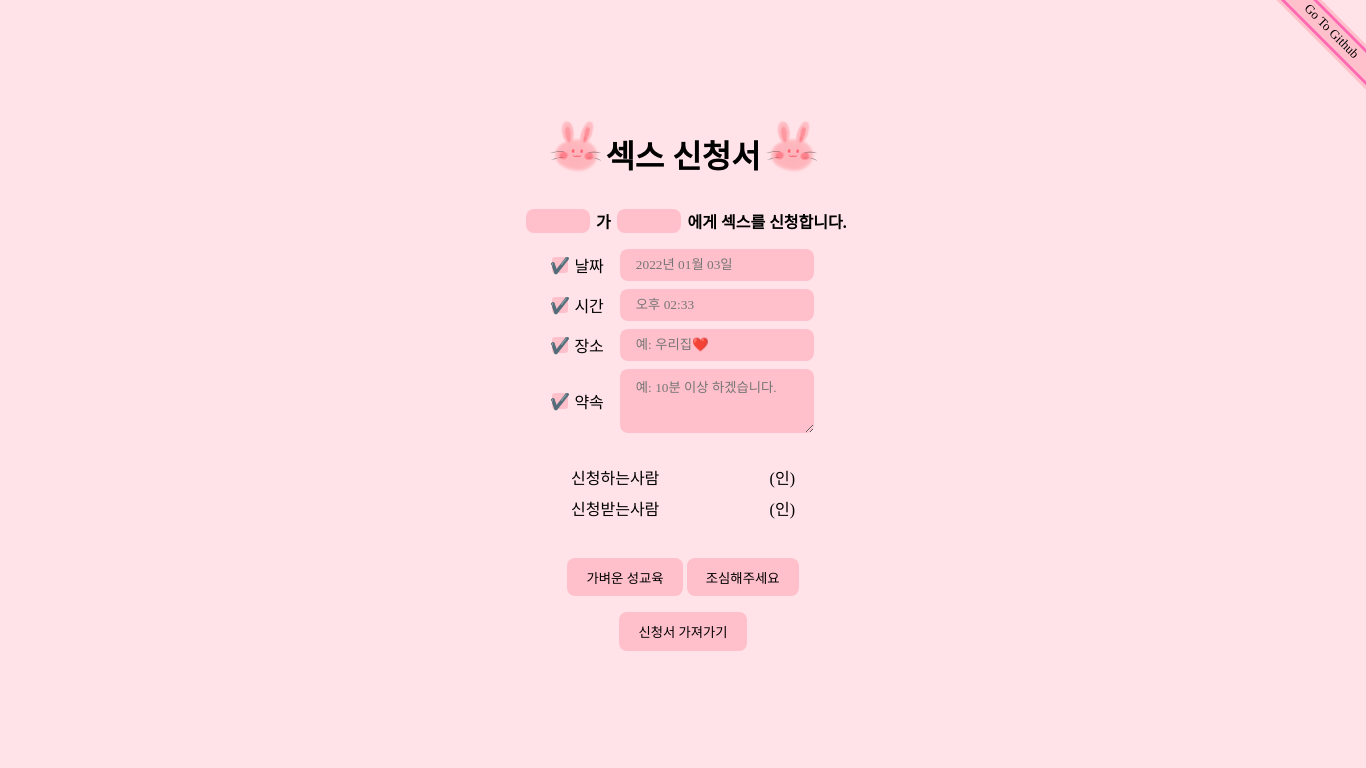
it: 랜딩페이지 › 조심해주세요 버튼을 클릭했을 때 › "이용하실 때 주의해주세요!" 이라는 팝업이 나타납니다.
Click the button "조심해주세요" at (743, 577), box [687,558,799,596]
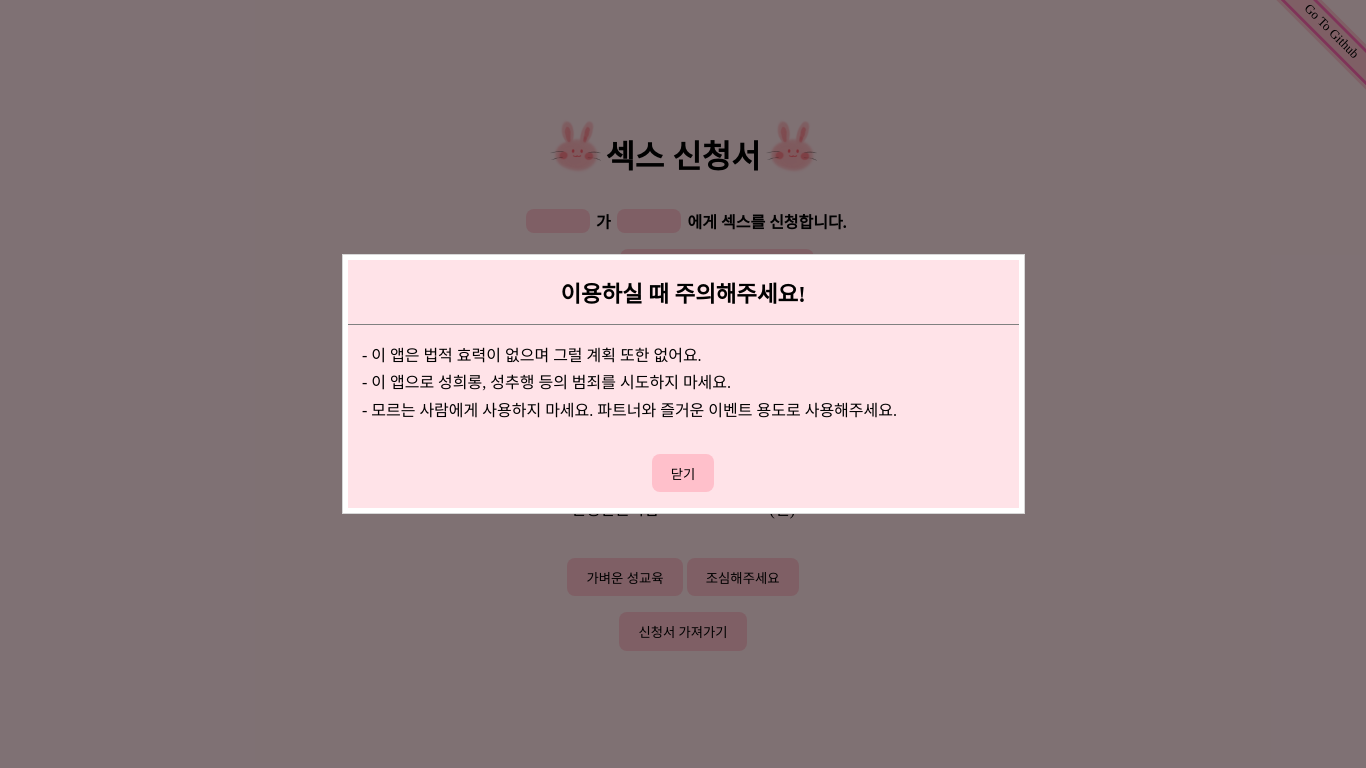
Expected: the text "이용하실 때 주의해주세요!" is shown, [348,260,1018,325]
